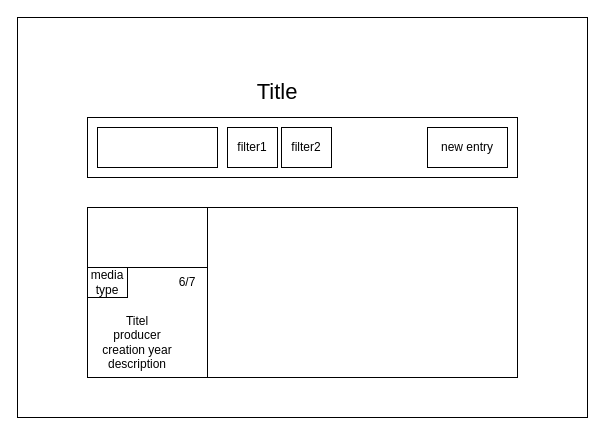
Some shapes in this 605 by 435 pixel diagram are drawn without their labels. The centre of each missing label's shape, as x and y in pixels:
"image" goes at point 147,237.
"search" goes at point 157,147.
